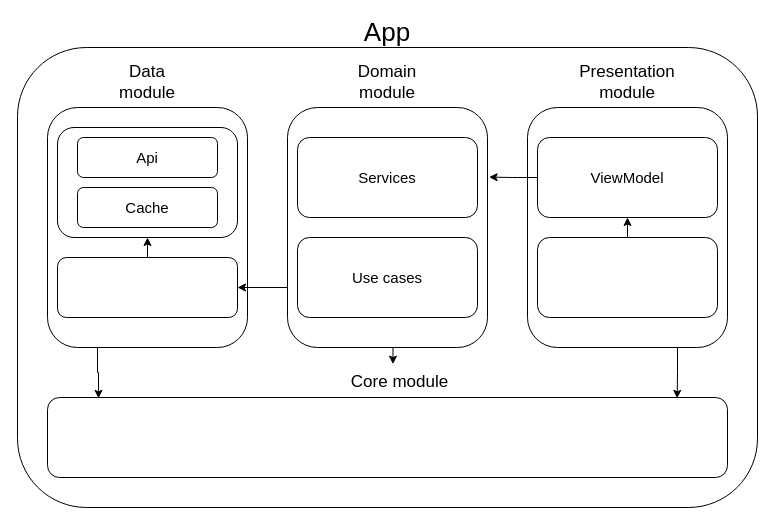
Some shapes in this 775 by 525 pixel diagram are drawn without their labels. The box of each missing label's shape, as (x1, y1, x2, y2) in pixels:
Repository: (56, 256, 238, 318)
Reusable components and utils: (46, 396, 728, 478)
View: (536, 236, 718, 318)
